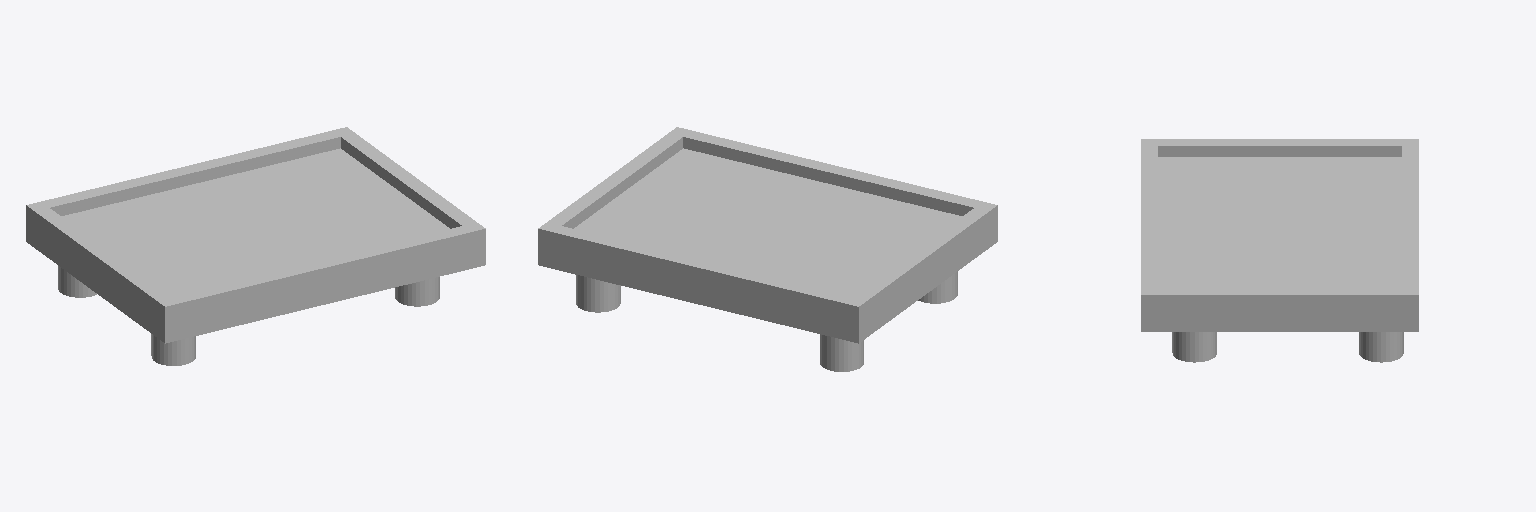
File: PoolTable.obj
3 views of the same model, side by side, from view 1: azimuth 30°, elevation 25°; view 2: azimuth 150°, elevation 25°; view 3: azimuth 270°, elevation 25° (orthographic).
Parts seen in each view (by area): view 1: Cube.001_Cube.002, Cube_Cube.001, Cylinder, Cylinder.002, Cylinder.001; view 2: Cube.001_Cube.002, Cube_Cube.001, Cylinder.003, Cylinder.001, Cylinder; view 3: Cube.001_Cube.002, Cube_Cube.001, Cylinder.002, Cylinder.003.
Boxes of the visible parts, <box> form: Cube.001_Cube.002: <box>50,137,461,296</box>; Cube_Cube.001: <box>26,127,485,343</box>; Cylinder: <box>151,334,195,365</box>; Cylinder.002: <box>395,277,439,306</box>; Cylinder.001: <box>58,266,96,297</box>; Cube.001_Cube.002: <box>562,137,973,296</box>; Cube_Cube.001: <box>538,127,997,343</box>; Cylinder.003: <box>576,275,620,312</box>; Cylinder.001: <box>820,334,863,371</box>; Cylinder: <box>918,271,957,303</box>; Cube.001_Cube.002: <box>1158,146,1401,287</box>; Cube_Cube.001: <box>1141,139,1418,331</box>; Cylinder.002: <box>1172,332,1216,362</box>; Cylinder.003: <box>1359,332,1403,362</box>.
Size of the model in its own units: 5.27 by 1.23 by 3.96.